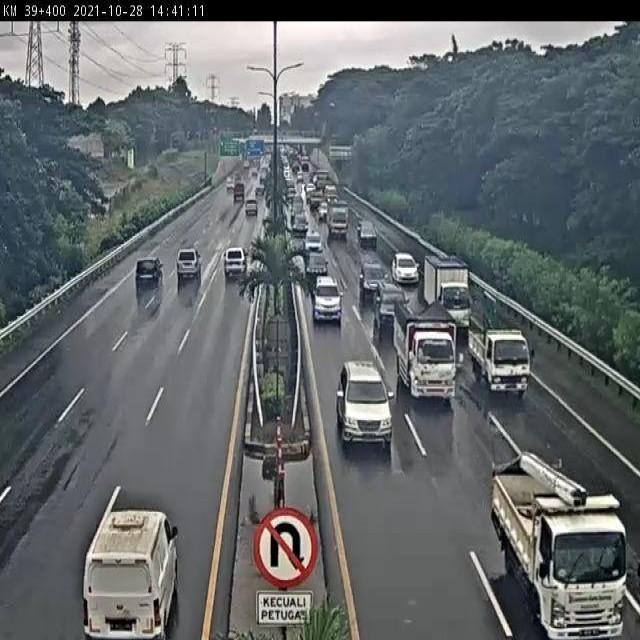car: (79, 508, 182, 640), (338, 360, 394, 441), (374, 279, 410, 329), (312, 276, 344, 325), (358, 263, 388, 300), (392, 253, 420, 284)
mid truck: (490, 471, 624, 638), (395, 303, 457, 404), (468, 324, 531, 396), (424, 256, 473, 332), (134, 254, 165, 290), (175, 247, 203, 280), (222, 247, 248, 280)
